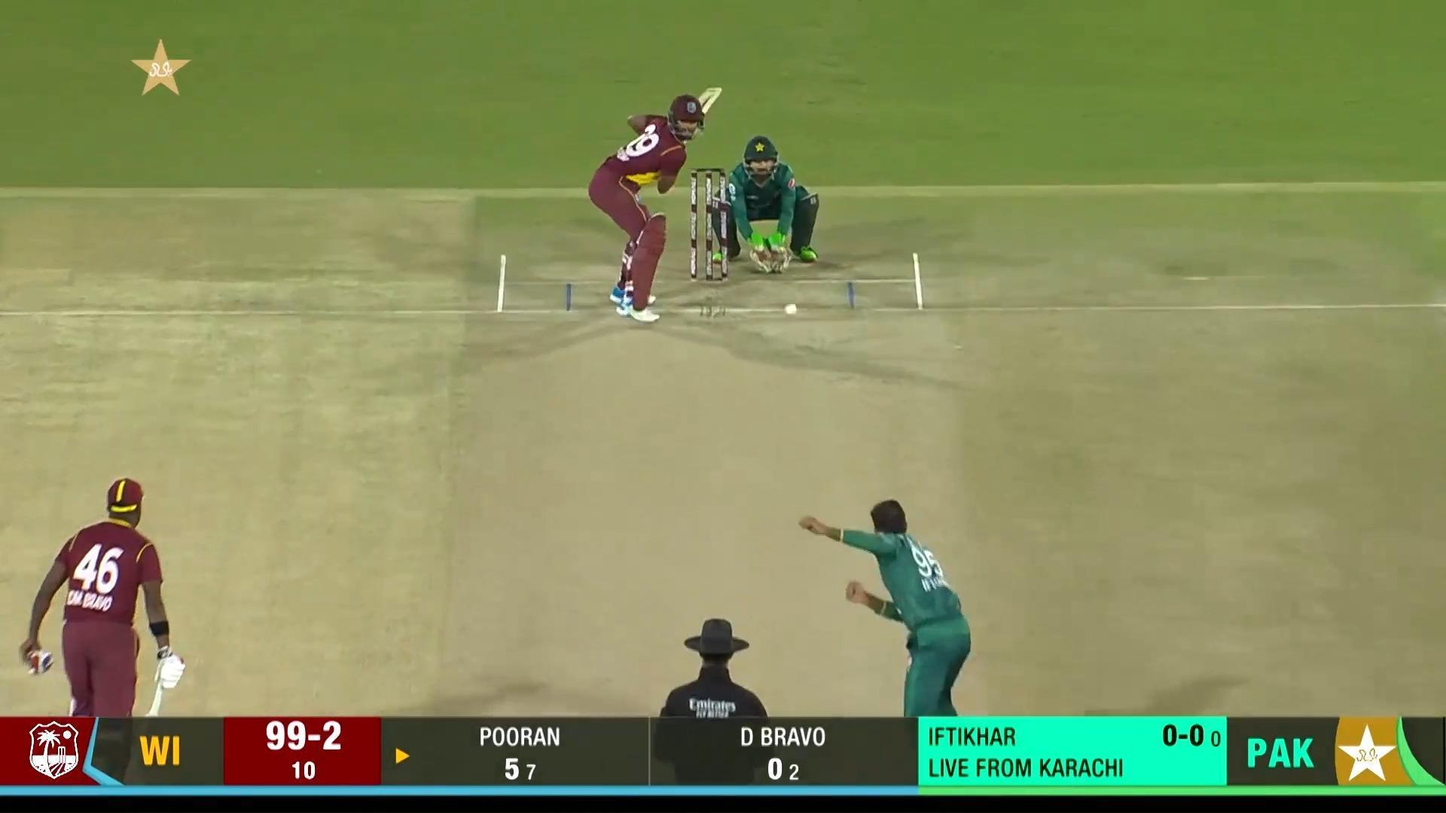BM 1: (589, 86, 723, 321)
BO: (798, 498, 979, 810)
